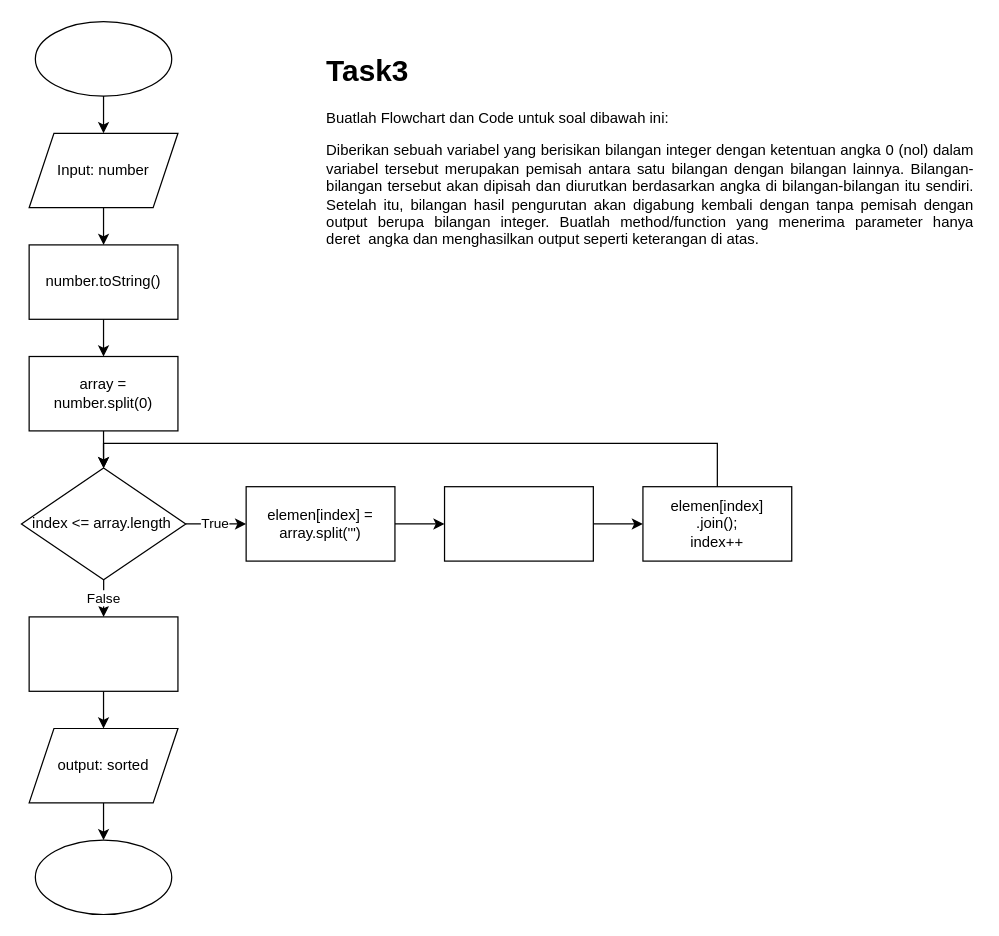
The diagram is 999 pixels wide and 936 high, and some of its shapes have lost their labels. The box of each missing label's shape, as (x1, y1, x2, y2) in pixels:
elemen[index] .sort(): (443, 485, 593, 561)
Mulai: (34, 20, 172, 96)
Selesai: (34, 839, 172, 914)
sorted = elemen.join(): (28, 616, 178, 691)
